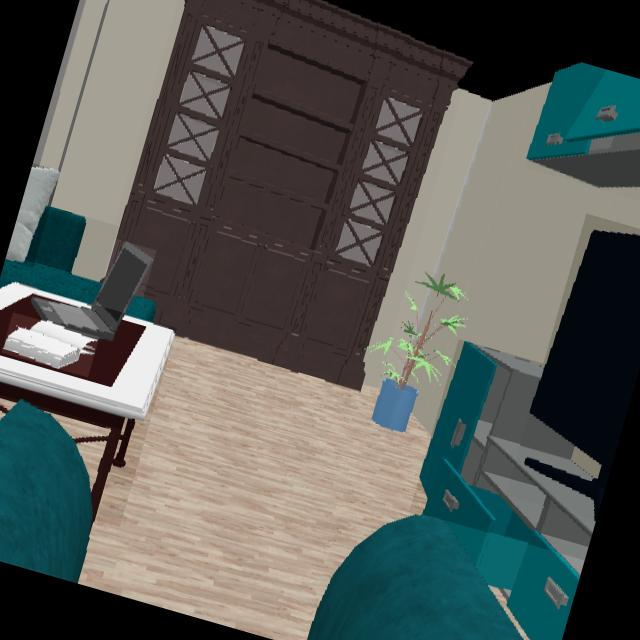book: (2, 322, 94, 369)
bookshelf: (119, 0, 470, 389)
cabinet: (418, 341, 602, 640), (526, 62, 640, 190)
laptop: (29, 242, 152, 343)
monitor: (524, 231, 640, 519)
pillow: (4, 167, 60, 265)
sofa: (304, 515, 528, 640), (0, 401, 94, 582), (0, 206, 101, 306), (124, 296, 154, 323)
table: (0, 282, 174, 519)
